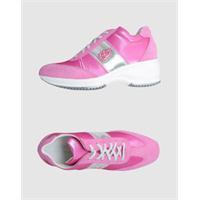shoe: (39, 25, 161, 90), (38, 130, 160, 170)
